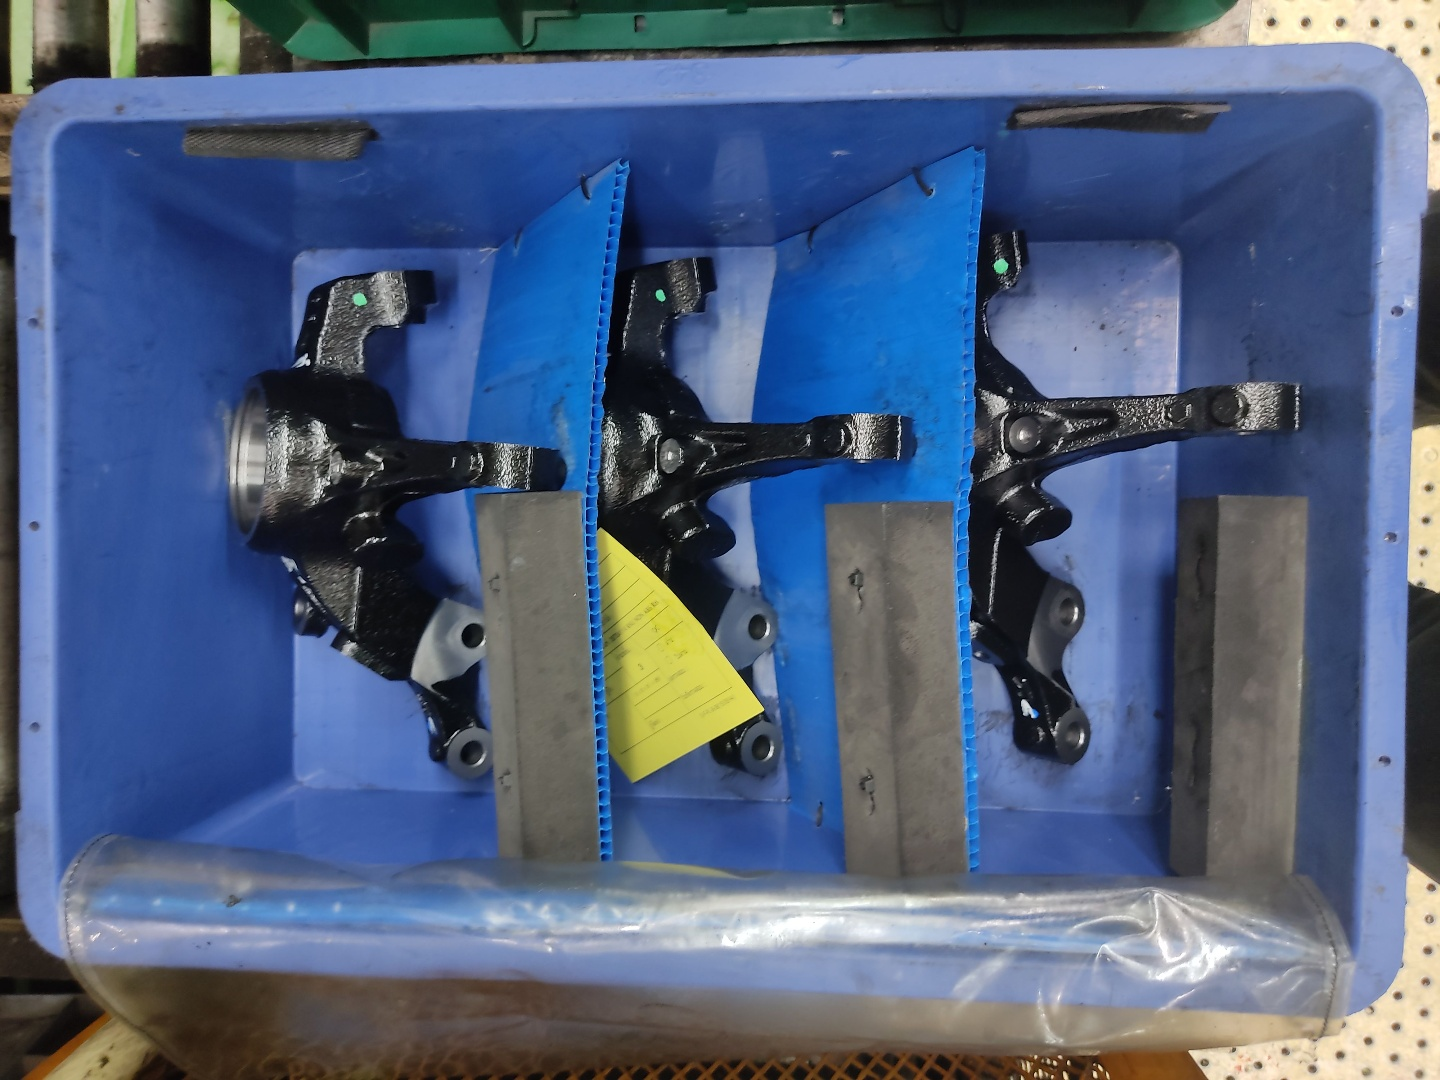non-rh: (204, 252, 571, 802), (957, 221, 1310, 782), (585, 250, 918, 792)
